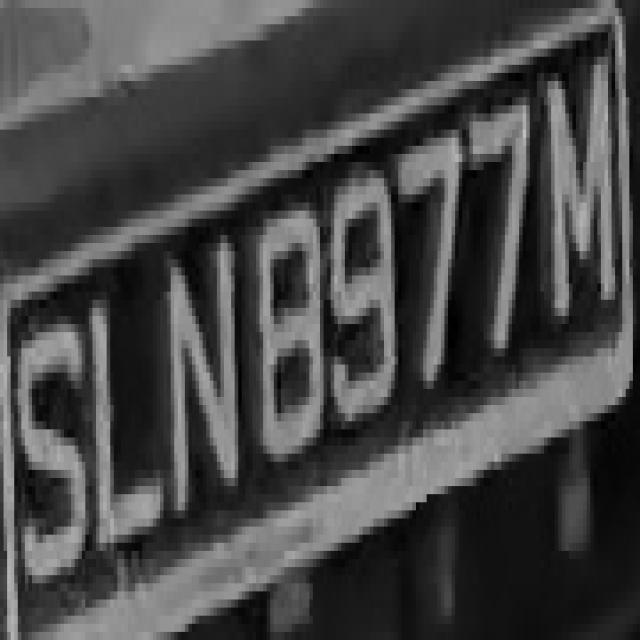7: (452, 89, 540, 381), (391, 130, 466, 397)
8: (252, 178, 334, 478)
9: (316, 146, 406, 429)
L: (75, 275, 167, 551)
M: (537, 48, 619, 356)
N: (160, 227, 249, 518)
S: (7, 308, 85, 583)
